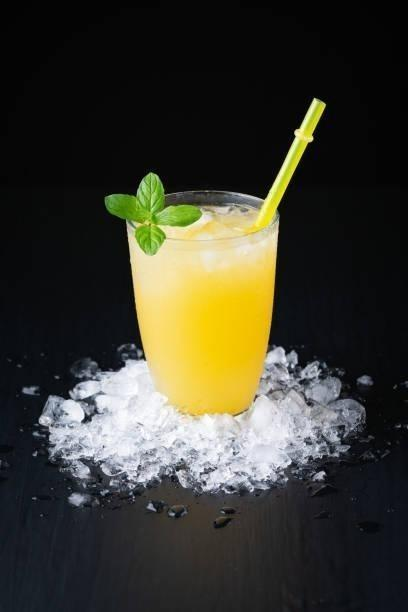glass-normal: (123, 188, 282, 417)
